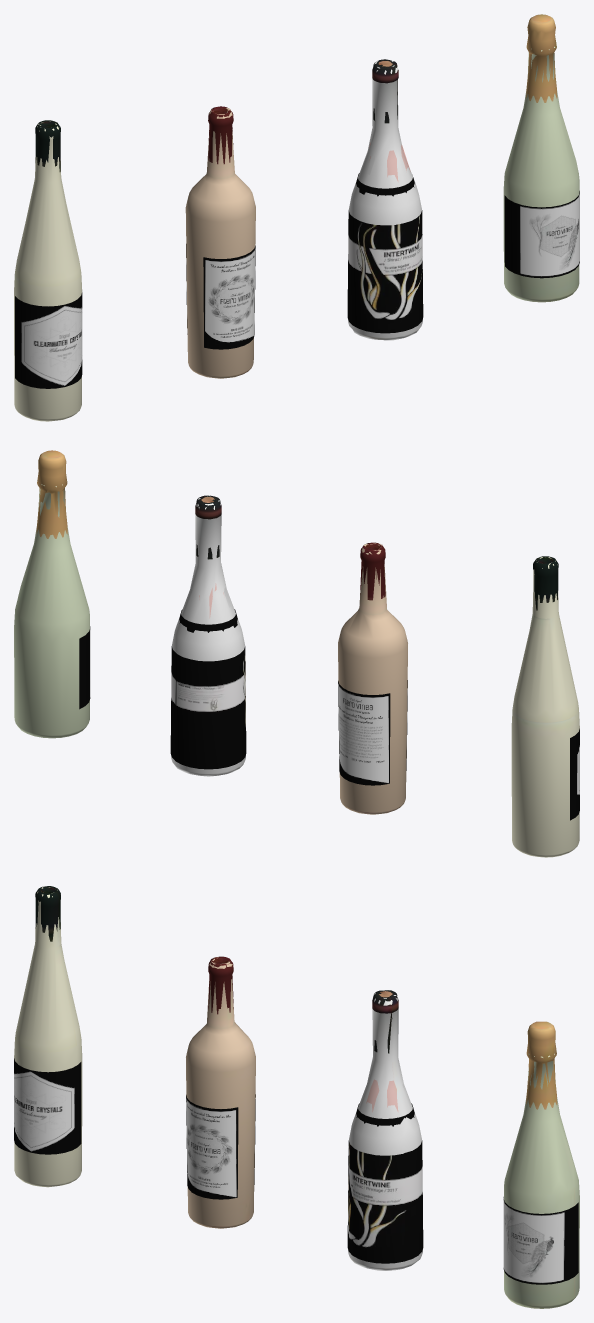
File: wine-bottles.glb
3 renders of one model, top to bottom at view 1: azimuth 30°, elevation 25°; view 2: azimuth 150°, elevation 25°; view 3: azimuth 330°, elevation 25°, orthographic.
Parts seen in each view (by area): view 1: wine_bottles_01_champagne, wine_bottles_01_alsace, wine_bottles_01_burgundy, wine_bottles_01_bordeaux; view 2: wine_bottles_01_champagne, wine_bottles_01_alsace, wine_bottles_01_burgundy, wine_bottles_01_bordeaux; view 3: wine_bottles_01_champagne, wine_bottles_01_alsace, wine_bottles_01_burgundy, wine_bottles_01_bordeaux.
Part boxes in pixels (x1,y1,x2,y2): wine_bottles_01_champagne: [503, 14, 579, 302]; wine_bottles_01_alsace: [14, 120, 82, 421]; wine_bottles_01_burgundy: [347, 59, 423, 340]; wine_bottles_01_bordeaux: [185, 106, 255, 378]; wine_bottles_01_champagne: [14, 450, 90, 738]; wine_bottles_01_alsace: [511, 556, 579, 857]; wine_bottles_01_burgundy: [170, 495, 246, 776]; wine_bottles_01_bordeaux: [338, 542, 407, 814]; wine_bottles_01_champagne: [503, 1021, 579, 1308]; wine_bottles_01_alsace: [14, 886, 82, 1187]; wine_bottles_01_burgundy: [347, 990, 423, 1270]; wine_bottles_01_bordeaux: [186, 956, 255, 1228].
Size of the model in its own units: 0.6763 by 0.3314 by 0.0805.
Materials: 9 (6 with a texture image).
